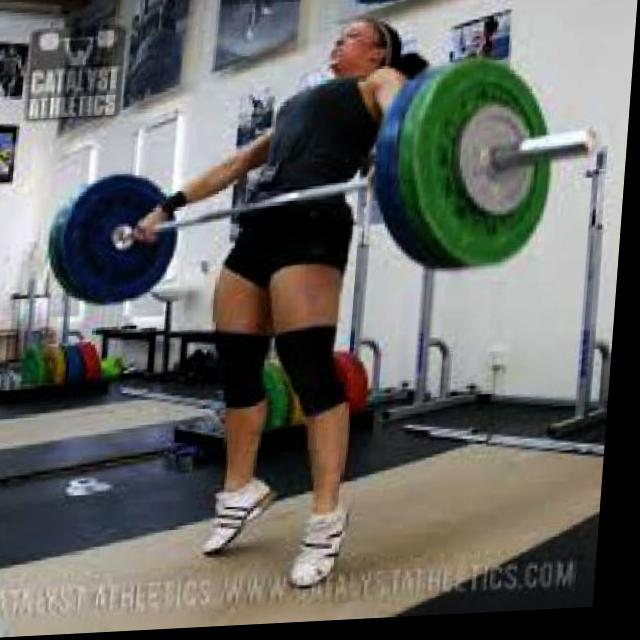barbell: (411, 58, 615, 284)
